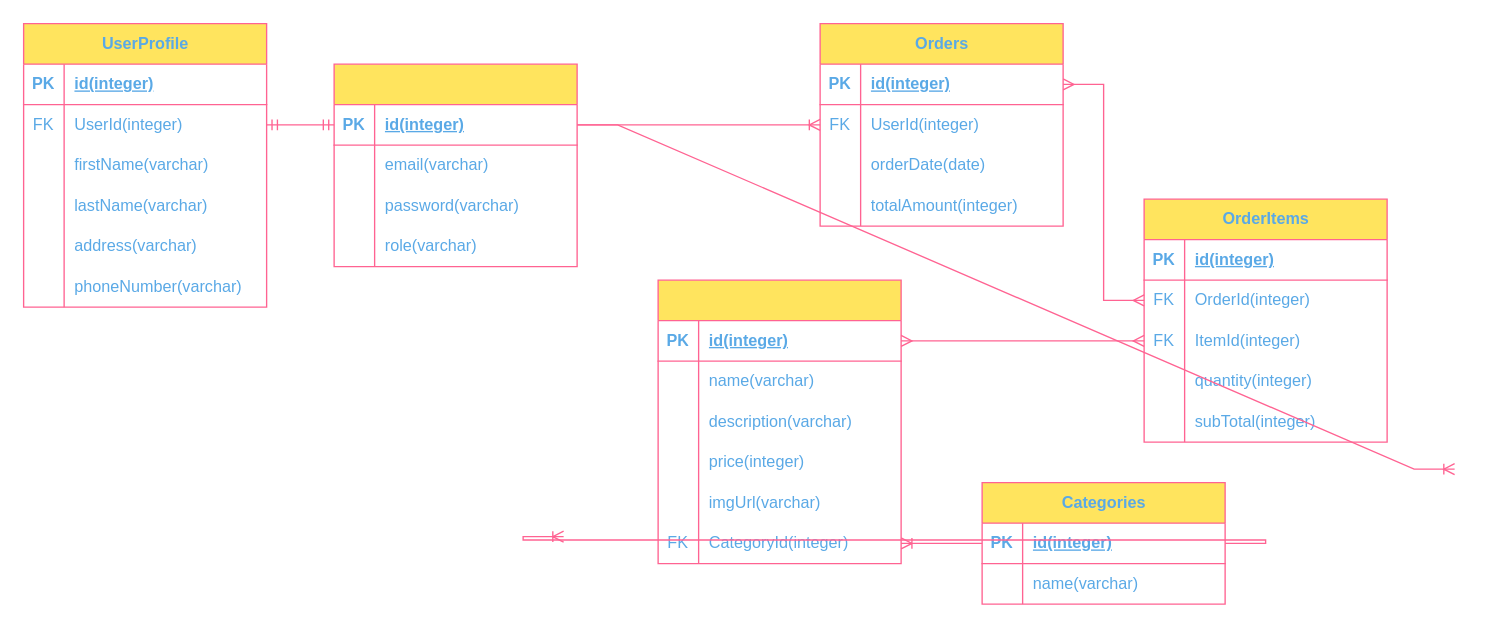
Image size: 1489x628. Some labels were removed from this diagram. The box of each missing label's shape, as (x1, y1, x2, y2) in pixels:
Items: (657, 279, 901, 564)
Users: (333, 63, 577, 267)
